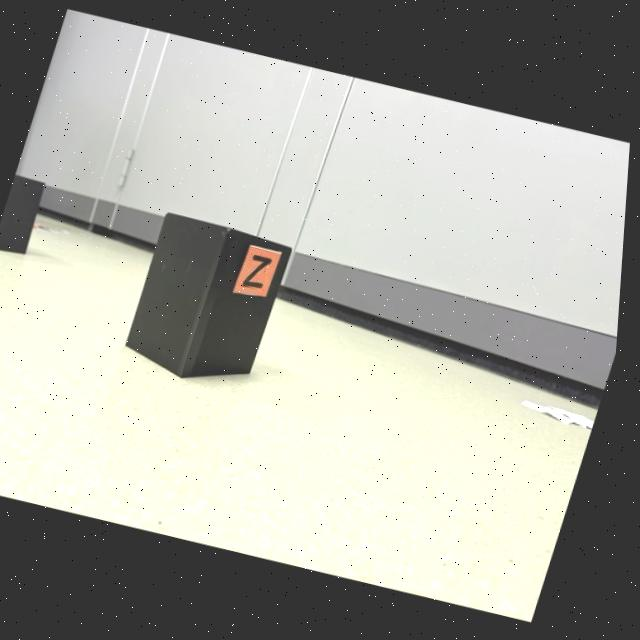Z: (246, 256, 275, 290)
